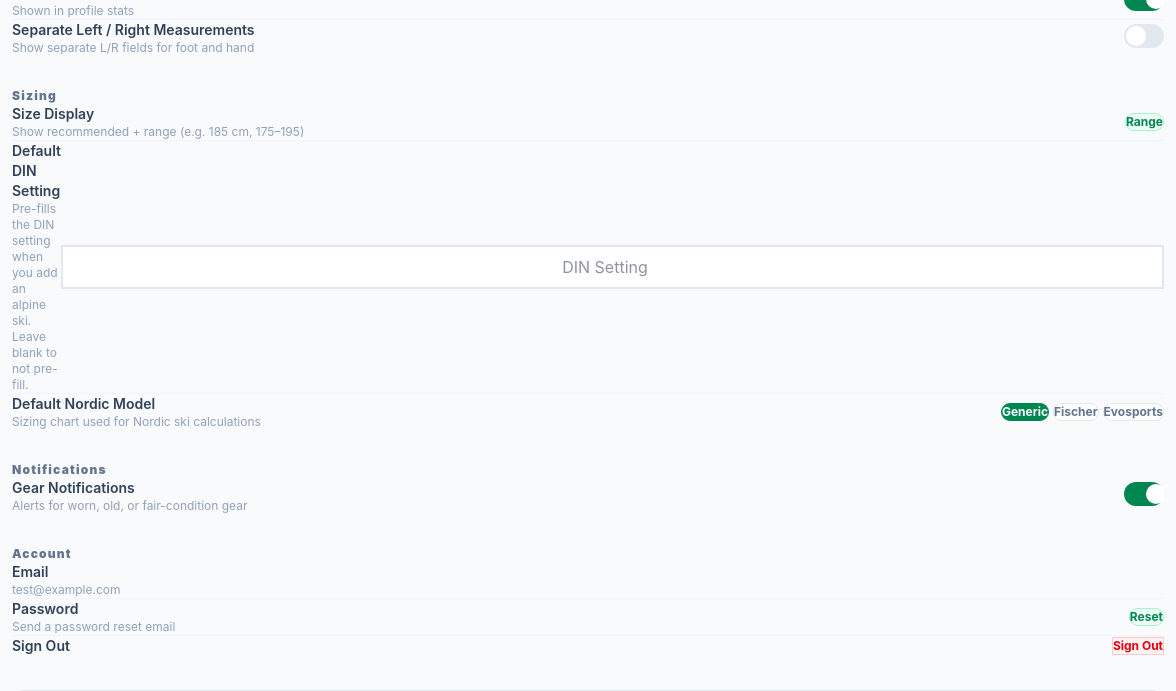
Test: SettingsScreen › account section › shows error when password reset fails
The width and height of the screenshot is (1176, 691).
(page scrolled)
Click the button with aria-label "send password reset email": (1146, 617) [1129,608,1164,626]
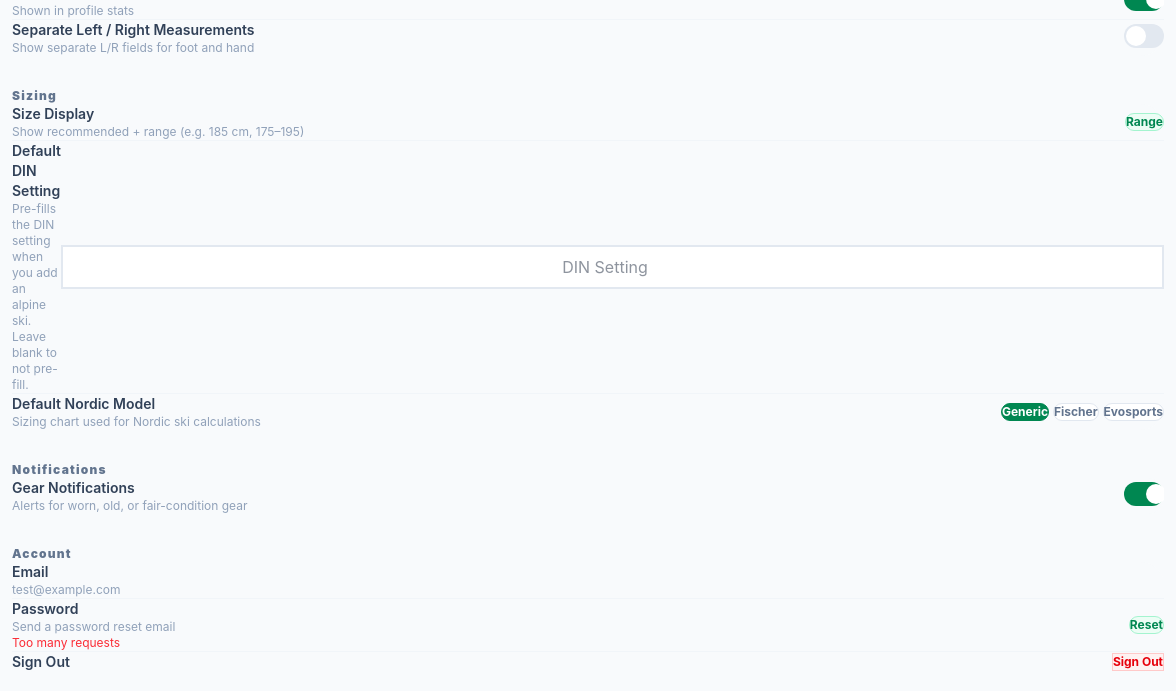
expect the text "Too many requests" is shown: met, box [12,635,120,650]
